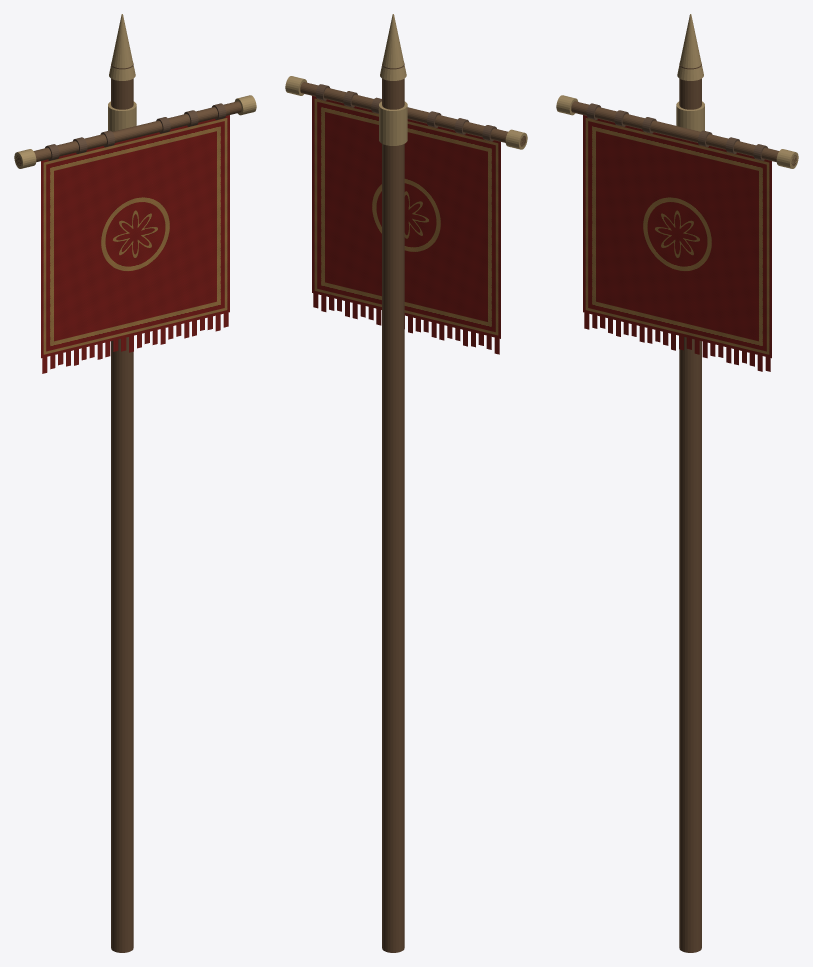
File: i00_vexillum.glb
3 views of the same model, side by side, from view 1: azimuth 30°, elevation 25°; view 2: azimuth 150°, elevation 25°; view 3: azimuth 330°, elevation 25° (orthographic).
Visible parts, largest first — view 1: VexillumCloth, Mast, Crossbar, Finial, CrossbarFitting; view 2: VexillumCloth, Mast, Crossbar, CrossbarFitting, Finial; view 3: VexillumCloth, Mast, Crossbar, Finial, CrossbarFitting.
Part boxes in pixels (left/top/right/bottom): VexillumCloth: left=41, top=115, right=229, bottom=373; Mast: left=111, top=63, right=133, bottom=952; Crossbar: left=16, top=101, right=241, bottom=165; Finial: left=109, top=14, right=135, bottom=80; CrossbarFitting: left=108, top=101, right=136, bottom=131; VexillumCloth: left=312, top=96, right=500, bottom=354; Mast: left=382, top=63, right=404, bottom=952; Crossbar: left=300, top=82, right=525, bottom=146; CrossbarFitting: left=379, top=101, right=407, bottom=145; Finial: left=380, top=14, right=406, bottom=80; VexillumCloth: left=583, top=115, right=771, bottom=371; Mast: left=679, top=63, right=701, bottom=952; Crossbar: left=571, top=101, right=796, bottom=166; Finial: left=677, top=14, right=703, bottom=80; CrossbarFitting: left=676, top=101, right=704, bottom=131.
Bounding box in the file's own units: 0.84 × 3.21 × 0.154.
Materials: 4 (1 with a texture image).
